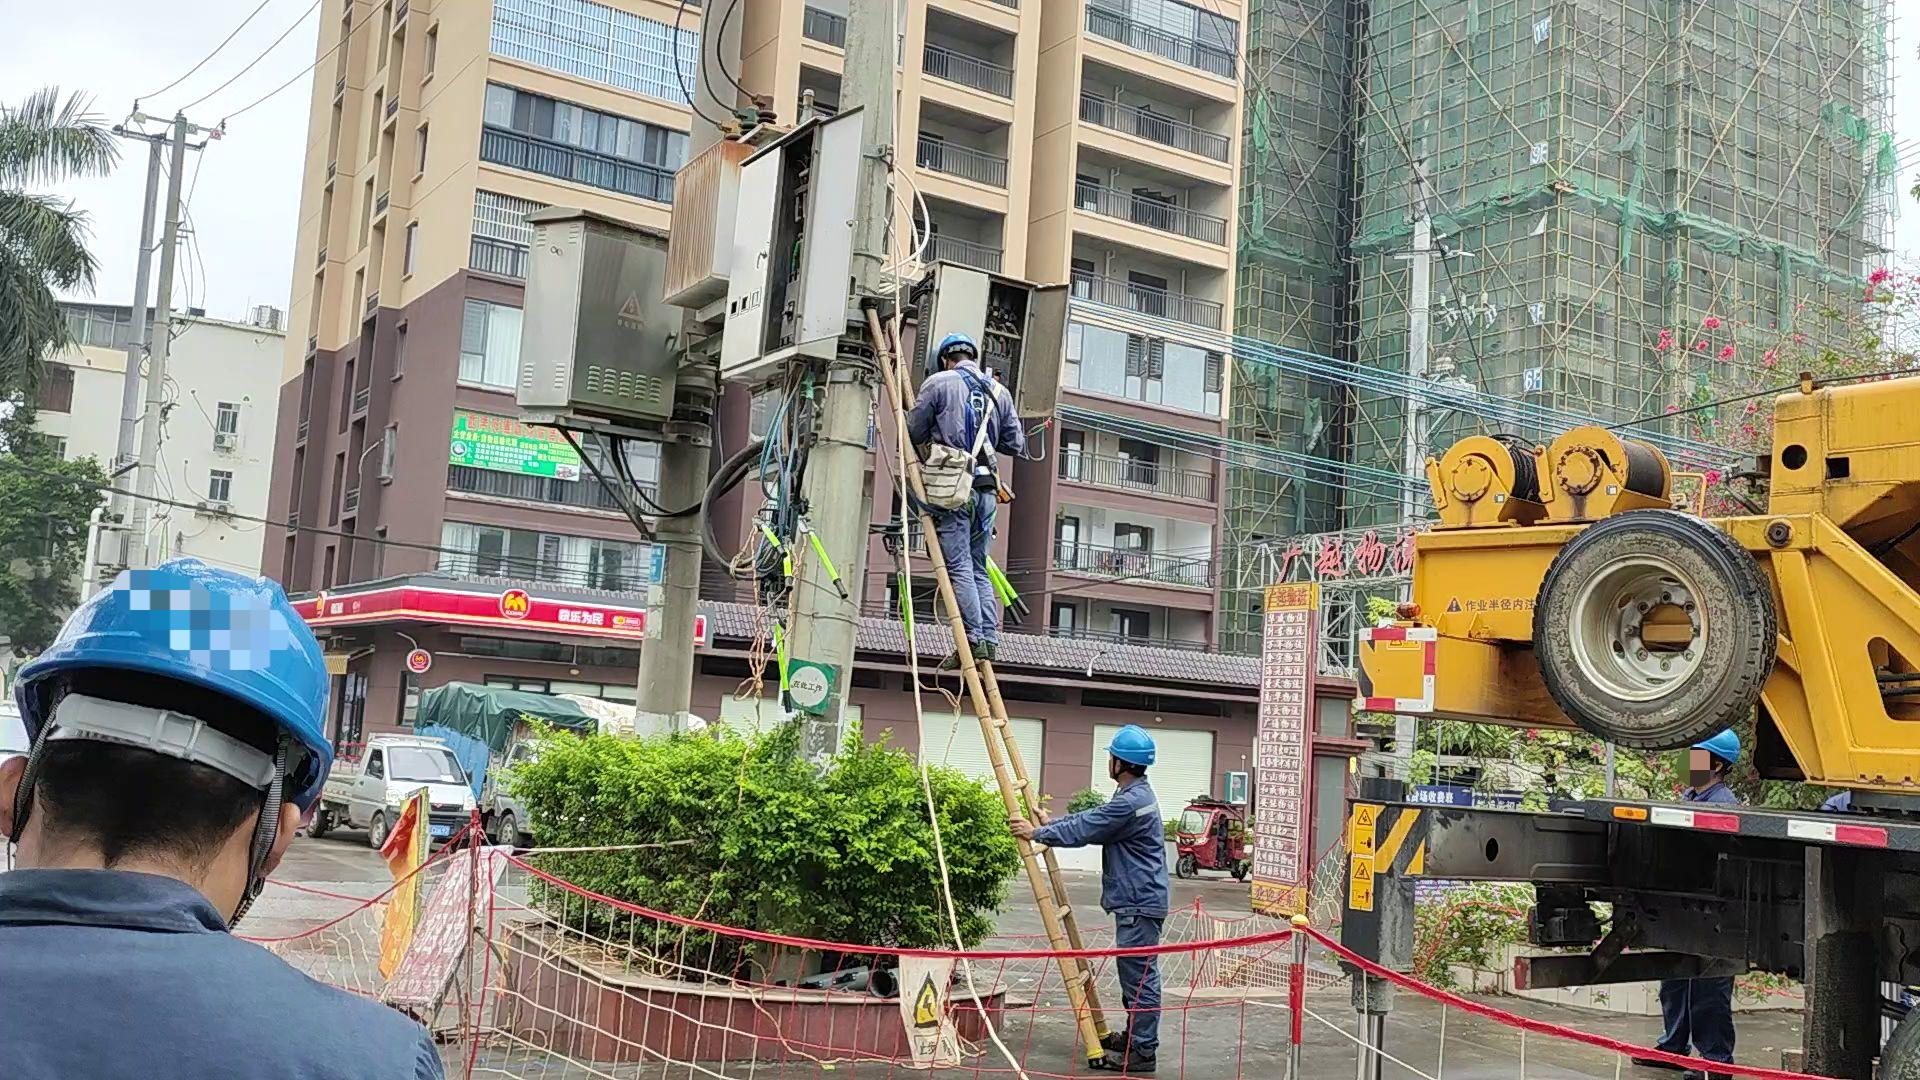halt: (3, 560, 342, 911), (1688, 733, 1745, 785), (1108, 729, 1159, 785), (939, 336, 981, 373)
inear: (1113, 756, 1131, 781)
